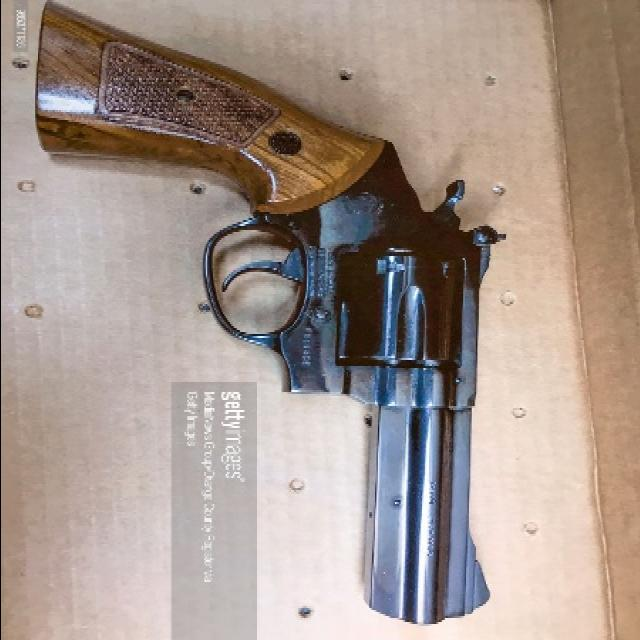handgun: (39, 3, 493, 619)
